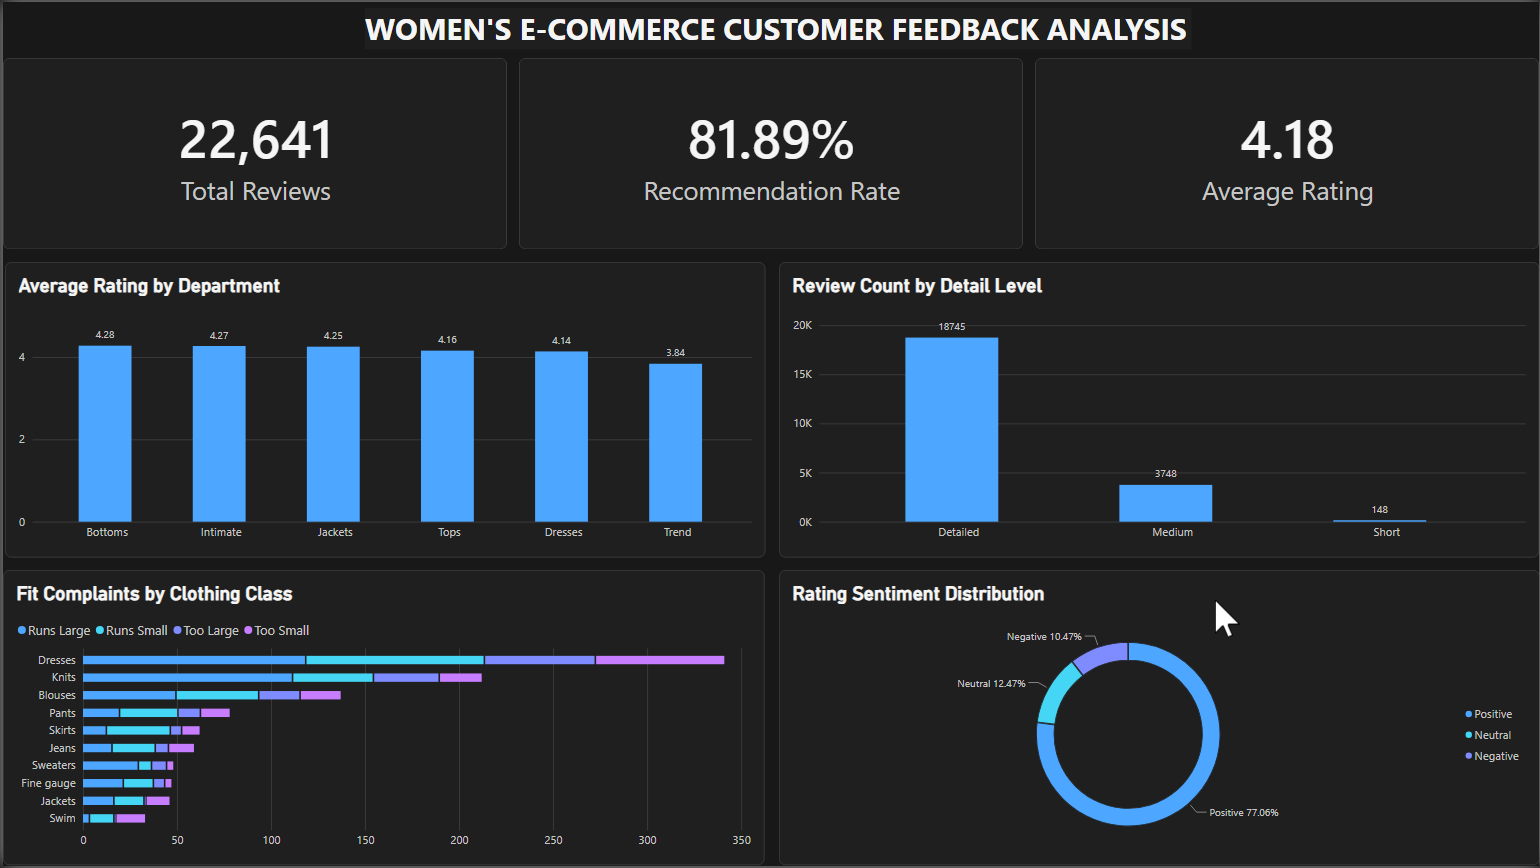

This screenshot's page, from the dashboard's own definition file:
{"tool":"powerbi","page":{"name":"Customer Feedback Overview","canvas":[1920,1080],"ordinal":0},"visuals":[{"type":"cardVisual","fields":{"Data":["Womens_Ecommerce_Cleaned.Total Reviews Display"]},"box":[0,70.6,630.9,239.7],"z":0},{"type":"cardVisual","fields":{"Data":["Womens_Ecommerce_Cleaned.Average Rating"]},"box":[1289.7,70.6,630.9,239.7],"z":1000},{"type":"cardVisual","fields":{"Data":["Womens_Ecommerce_Cleaned.Recommendation Rate"]},"box":[644.1,70.6,630.9,239.7],"z":2000},{"type":"clusteredColumnChart","title":"Average Rating by Department","fields":{"Category":["Womens_Ecommerce_Cleaned.Department Name"],"Y":["Avg(Womens_Ecommerce_Cleaned.Rating)"]},"box":[2.2,325.6,950.6,369.6],"z":3000},{"type":"clusteredColumnChart","title":"Review Count by Detail Level","fields":{"Category":["Womens_Ecommerce_Cleaned.Review Detail"],"Y":["CountNonNull(Womens_Ecommerce_Cleaned.Review Detail)"]},"box":[969,326.2,950.6,369.6],"z":4000},{"type":"barChart","title":"Fit Complaints by Clothing Class","fields":{"Category":["Womens_Ecommerce_Cleaned.Class Name"],"Series":["Womens_Ecommerce_Cleaned.Fit Issue"],"Y":["CountNonNull(Womens_Ecommerce_Cleaned.Fit Issue)"]},"box":[0,710.9,951.8,369.1],"z":5000},{"type":"donutChart","title":"Rating Sentiment Distribution","fields":{"Category":["Womens_Ecommerce_Cleaned.Rating Sentiment"],"Y":["CountNonNull(Womens_Ecommerce_Cleaned.Rating Sentiment)"]},"box":[969,711,951,369],"z":6000},{"type":"textbox","box":[452.1,8.3,1033.3,52.1],"z":7000}]}

Visuals, with their boxes in screenshot pixels (x1, y1, x2, y2), scaled from the page's 1920x1080 canvas onto the 1540x868 screenshot:
cardVisual - Womens_Ecommerce_Cleaned.Total Reviews Display: locate(0, 57, 506, 249)
cardVisual - Womens_Ecommerce_Cleaned.Average Rating: locate(1034, 57, 1539, 249)
cardVisual - Womens_Ecommerce_Cleaned.Recommendation Rate: locate(517, 57, 1023, 249)
"Average Rating by Department" clusteredColumnChart: locate(2, 262, 764, 559)
"Review Count by Detail Level" clusteredColumnChart: locate(777, 262, 1539, 559)
"Fit Complaints by Clothing Class" barChart: locate(0, 571, 763, 867)
"Rating Sentiment Distribution" donutChart: locate(777, 571, 1539, 867)
textbox: locate(363, 7, 1191, 49)
